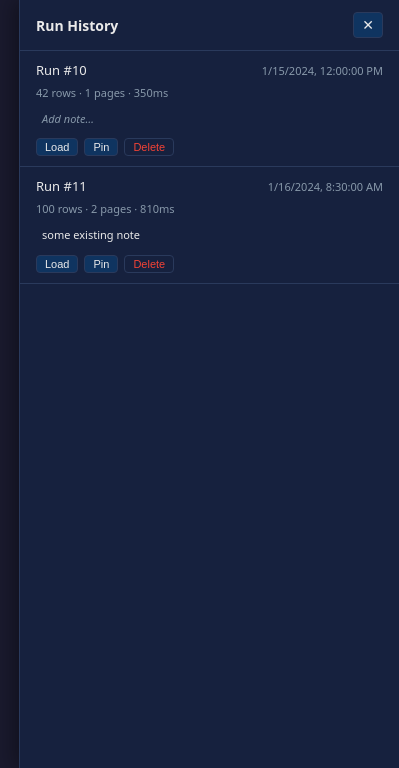
Test: HistoryDrawer › after save, the note text is displayed instead of a textarea
Expected: the text "Run #10" is shown, [36,61,87,80]
Click the text "Add note…": click(68, 118) [42,111,94,126]
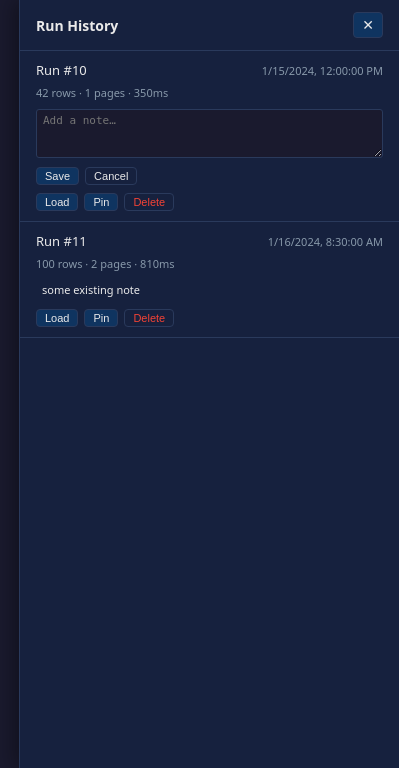
In the text box: (210, 134) [36,109,383,158], type "saved note text"
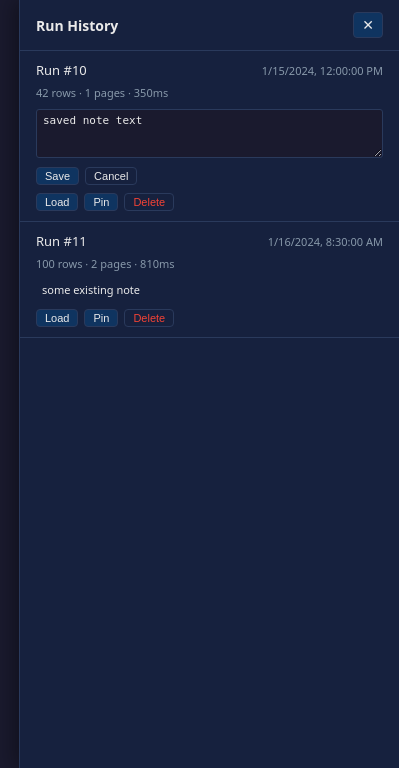
Click the button "Save": click(58, 176) [36,167,79,185]
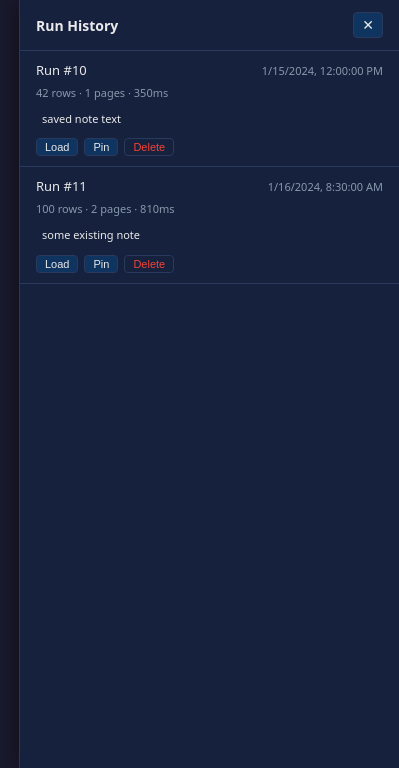
Now the text "saved note text" is shown, box [42,111,121,126]
